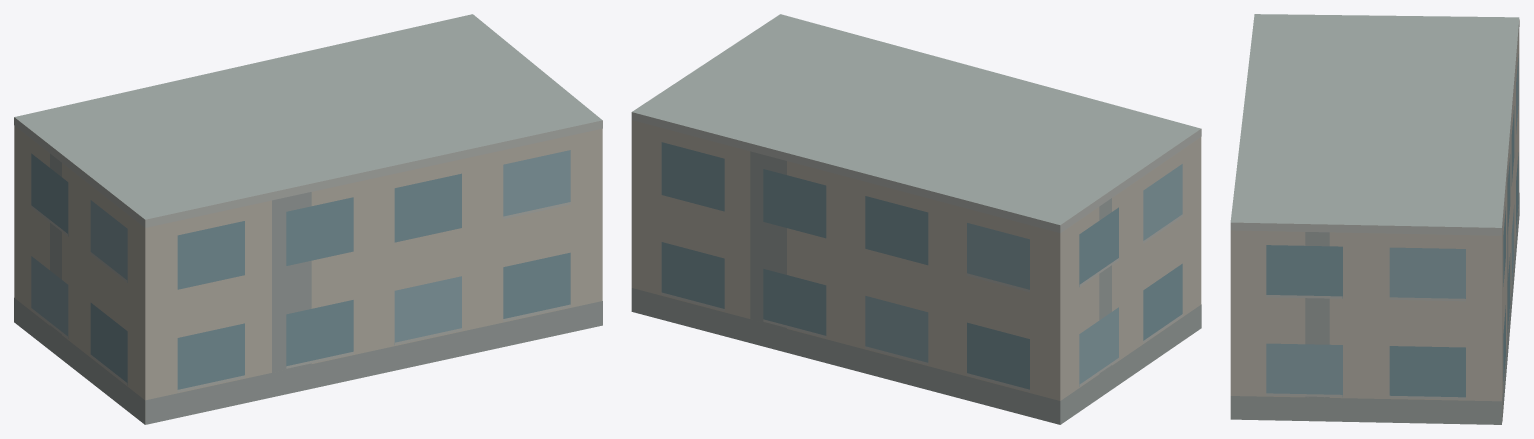
The model's file is survey-upis-32904205.glb.
3 renders of one model, left to right at view 1: azimuth 30°, elevation 25°; view 2: azimuth 150°, elevation 25°; view 3: azimuth 270°, elevation 25°, orthographic. The views are drawn at different scales.
Visible parts, largest first — view 1: survey-upis-32904205.tmp; view 2: survey-upis-32904205.tmp; view 3: survey-upis-32904205.tmp.
Part boxes in pixels (x1,y1,x2,y2): survey-upis-32904205.tmp: (14,14,602,424); survey-upis-32904205.tmp: (631,14,1201,424); survey-upis-32904205.tmp: (1230,14,1519,424).
Size of the model in its own units: 14.22 by 6.1 by 8.12.
